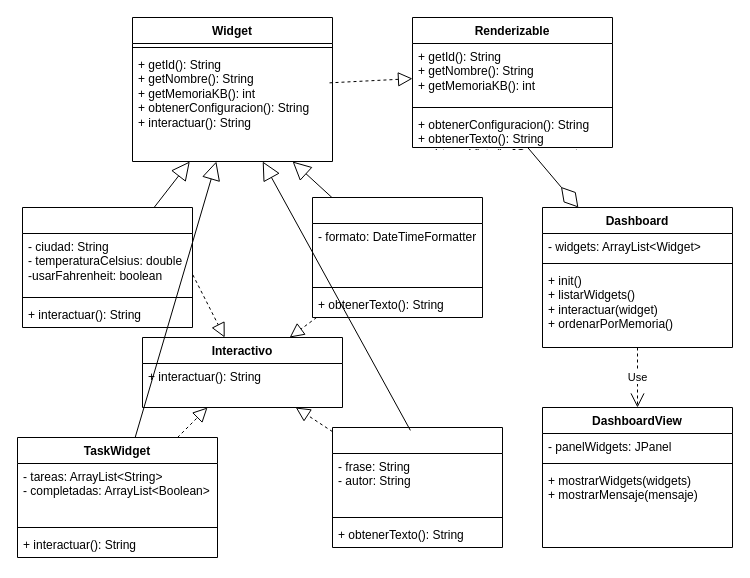
Image size: 750x578. Some labels were removed from this diagram. The shapes that lost their labels are listed below. From the top down, each one's box as (x1, y1, x2, y2) in pixels, then its label:
(22, 206, 192, 328): WeatherWidget
(312, 196, 482, 318): ClockWidget
(332, 426, 502, 548): QuoteWidget
